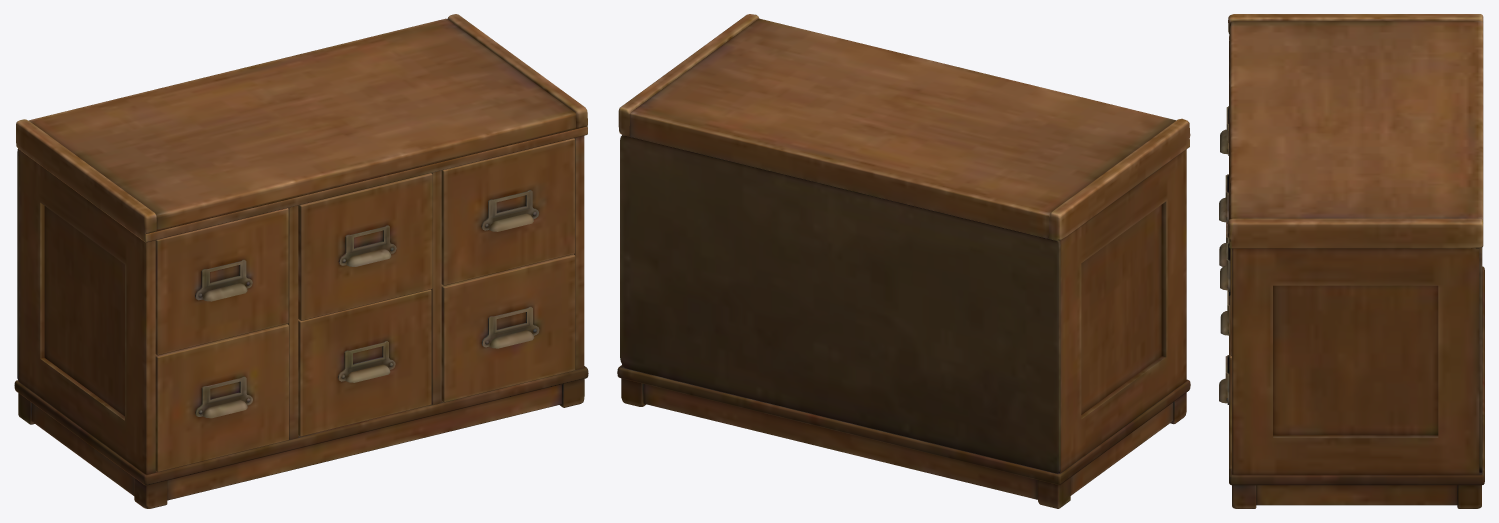
The model's file is chest_of_drawers.glb.
3 views of the same model, side by side, from view 1: azimuth 30°, elevation 25°; view 2: azimuth 150°, elevation 25°; view 3: azimuth 270°, elevation 25° (orthographic). The views are drawn at different scales.
Parts seen in each view (by area): view 1: vintage_wooden_drawer_01_body; view 2: vintage_wooden_drawer_01_body; view 3: vintage_wooden_drawer_01_body.
Boxes of the visible parts, x1,y1,x2,y2 form: vintage_wooden_drawer_01_body: [14, 14, 588, 508]; vintage_wooden_drawer_01_body: [617, 14, 1190, 508]; vintage_wooden_drawer_01_body: [1219, 14, 1484, 508].
Size of the model in its own units: 0.8576 by 0.5455 by 0.4574.
Materials: 1 (1 with a texture image).
